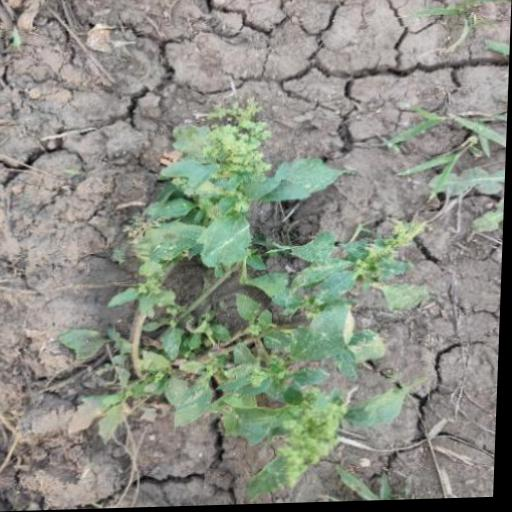weed: (99, 99, 440, 484)
